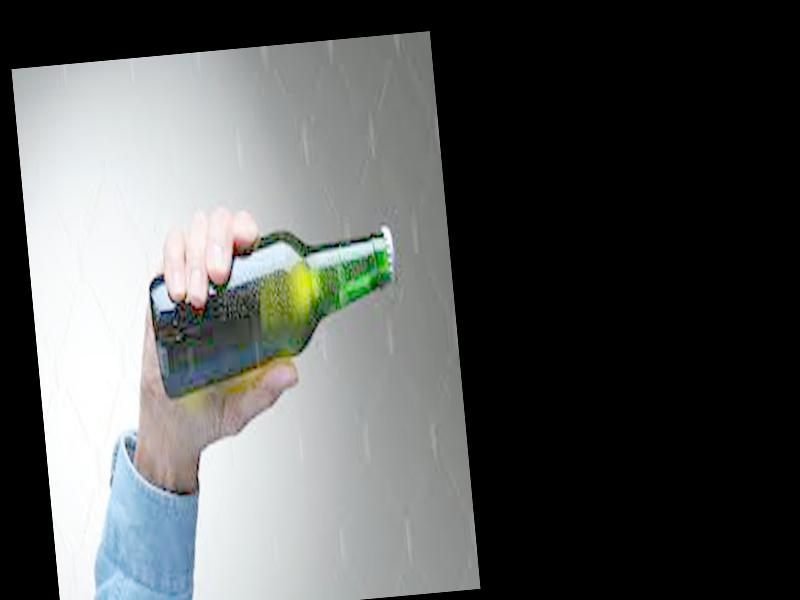Beer: (145, 213, 403, 403)
